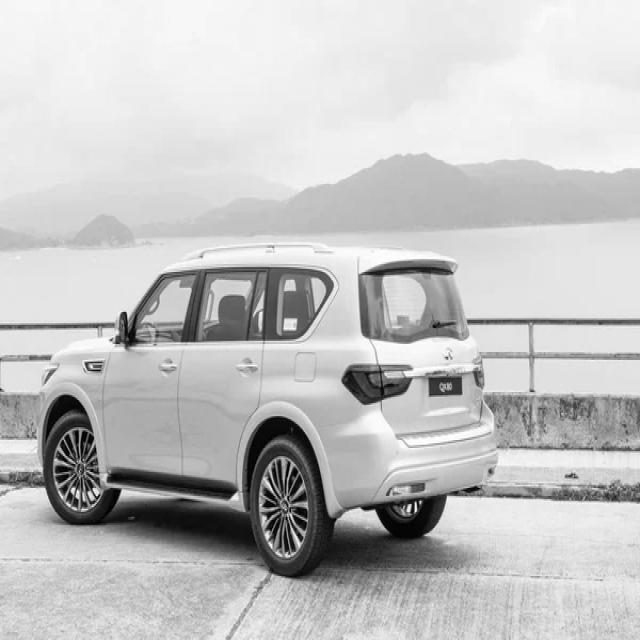Car: (36, 243, 496, 577)
